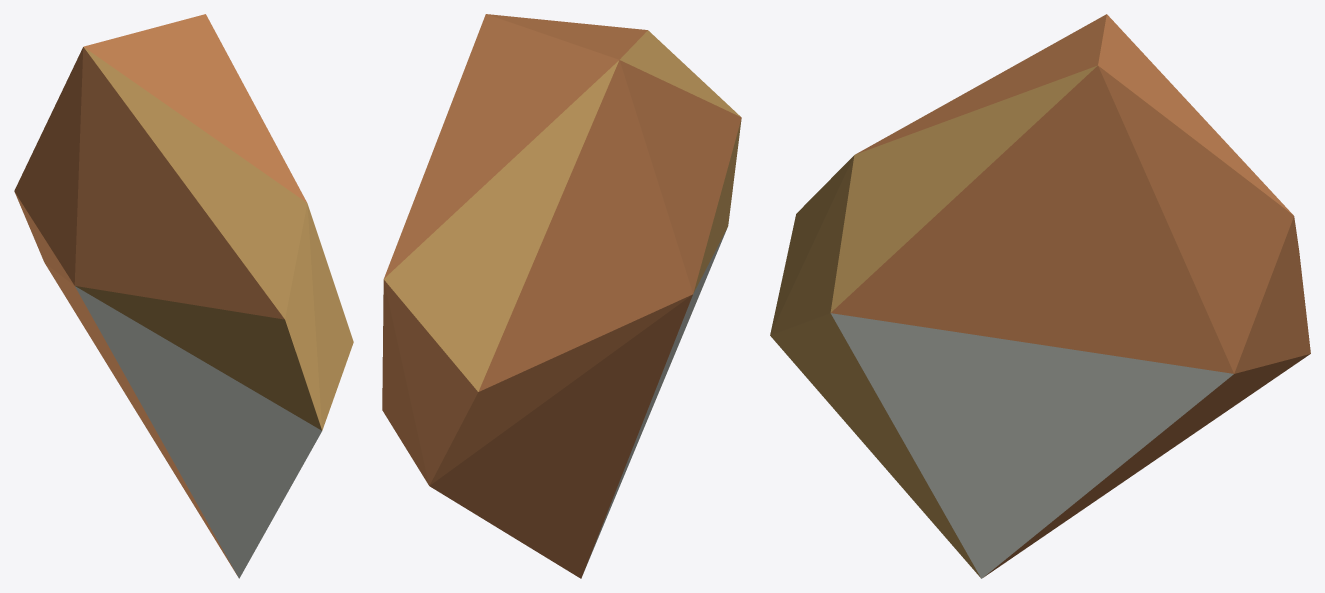
Rendered from BirchTree_Autumn_4.lod4.glb.
The picture shows the model from 3 angles, left to right: view 1: azimuth 30°, elevation 25°; view 2: azimuth 150°, elevation 25°; view 3: azimuth 270°, elevation 25°; orthographic projection. The views are drawn at different scales.
Visible parts, largest first — view 1: BirchTree_Autumn_4; view 2: BirchTree_Autumn_4; view 3: BirchTree_Autumn_4.
Boxes of the visible parts, x1,y1,x2,y2 form: BirchTree_Autumn_4: [14, 14, 353, 578]; BirchTree_Autumn_4: [382, 14, 741, 578]; BirchTree_Autumn_4: [770, 14, 1310, 578].
Size of the model in its own units: 1.27 by 3.58 by 3.34.
